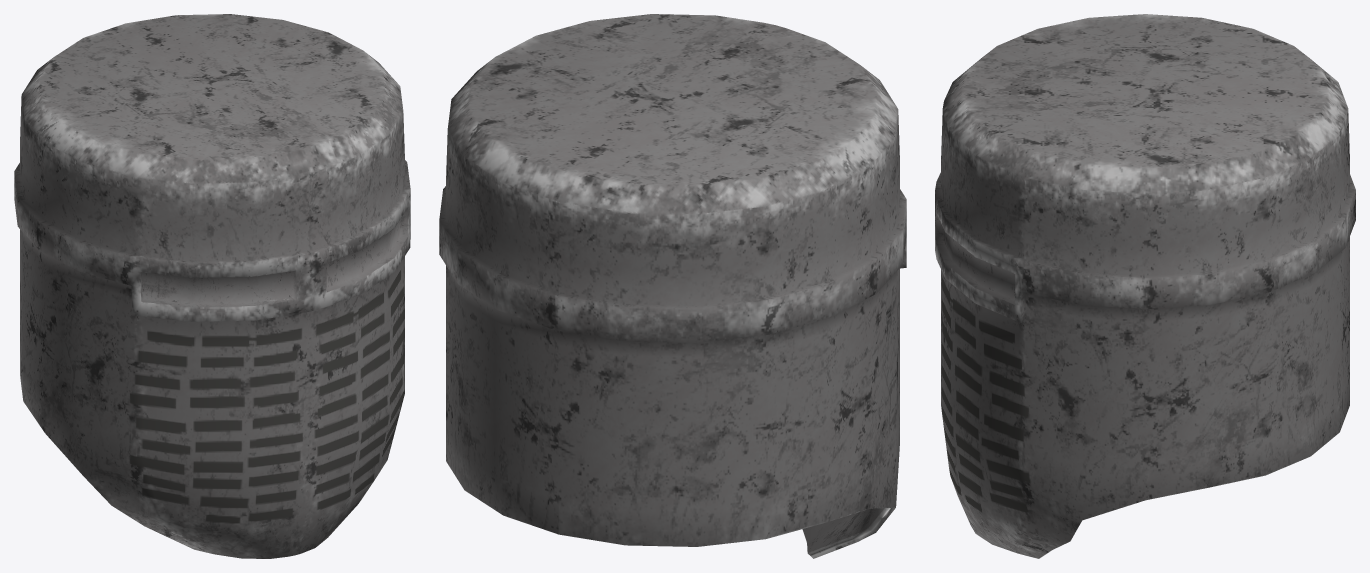
The model's file is ITM_DEFENSIVE_KNIGHTS HELMET.fbx.
The picture shows the model from 3 angles, left to right: view 1: azimuth 30°, elevation 25°; view 2: azimuth 150°, elevation 25°; view 3: azimuth 270°, elevation 25°; orthographic projection. The views are drawn at different scales.
Visible parts, largest first — view 1: itm_defensive_knight_helmet; view 2: itm_defensive_knight_helmet; view 3: itm_defensive_knight_helmet.
Part boxes in pixels (x1,y1,x2,y2): itm_defensive_knight_helmet: [14, 14, 410, 558]; itm_defensive_knight_helmet: [439, 14, 906, 558]; itm_defensive_knight_helmet: [935, 14, 1355, 558].
Bounding box in the file's own units: 79.12 × 90.12 × 79.13.
